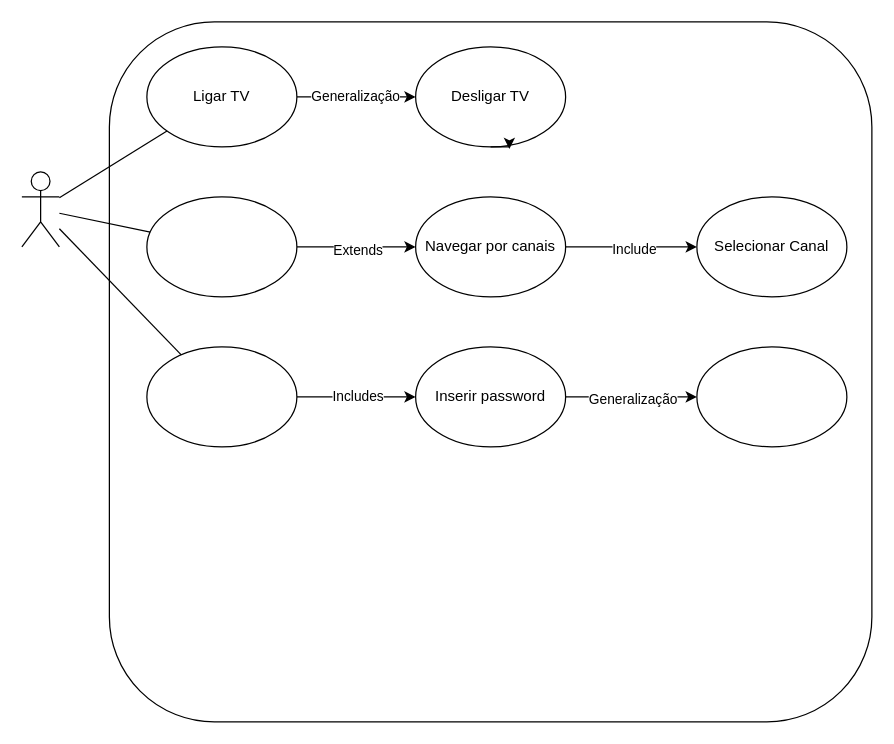
The diagram is 894 pixels wide and 744 high, and some of its shapes have lost their labels. Each missing label, with the centre of its shape:
Controle de horas: (771,396)
Mudar de canal: (221,246)
Sistema parental: (221,396)
